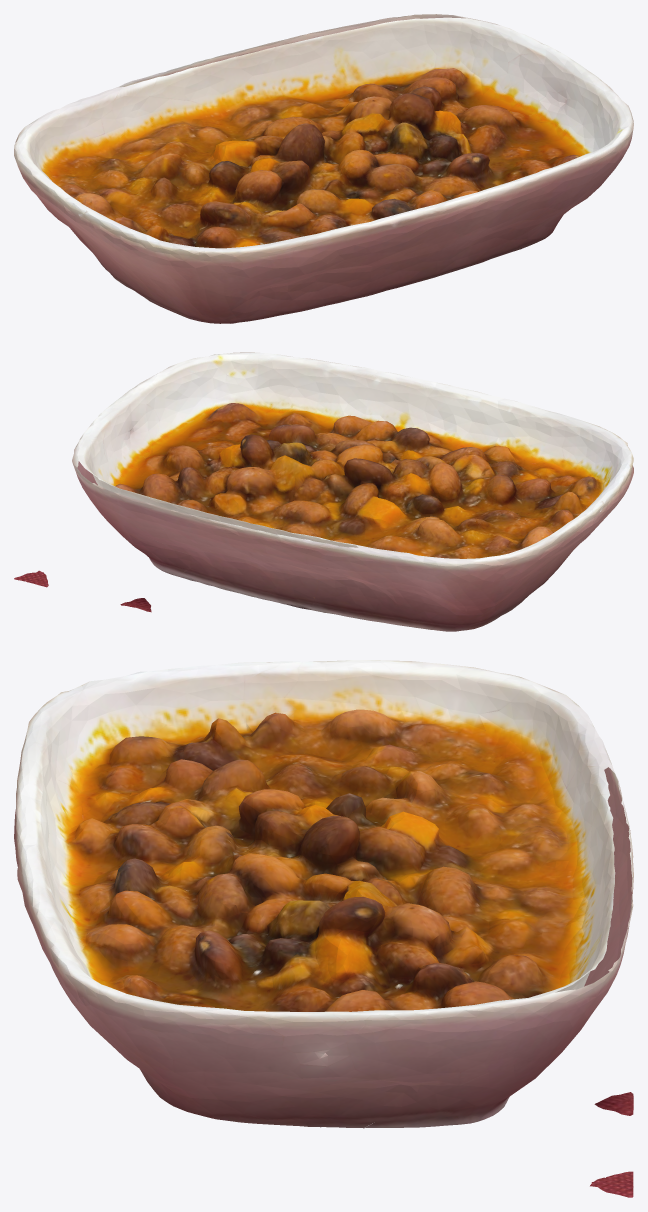
Rendered from barbunya.glb.
3 views of the same model, one above another, from view 1: azimuth 30°, elevation 25°; view 2: azimuth 150°, elevation 25°; view 3: azimuth 270°, elevation 25° (orthographic). The views are drawn at different scales.
Parts seen in each view (by area): view 1: __real_world_scale__; view 2: __real_world_scale__; view 3: __real_world_scale__.
Part boxes in pixels (box(x1,y1,x2,y2)): __real_world_scale__: box(14, 14, 633, 323); __real_world_scale__: box(14, 352, 633, 631); __real_world_scale__: box(14, 660, 633, 1197).
Size of the model in its own units: 0.18 by 0.0413 by 0.1278.
1 material, 1 textured.
